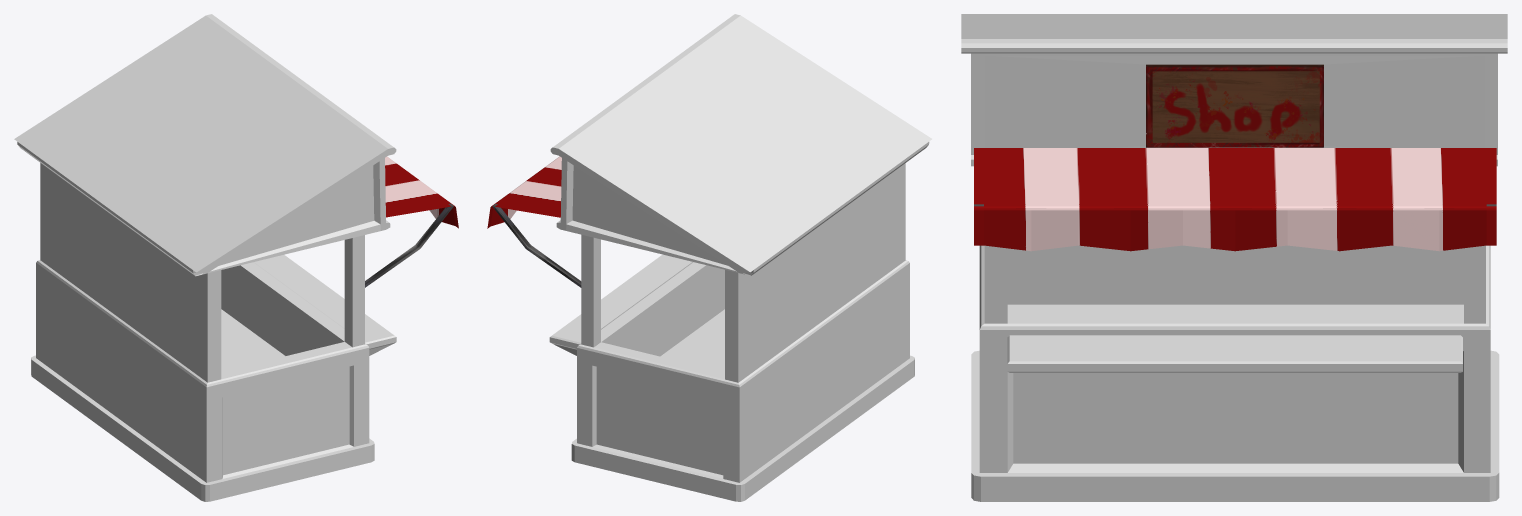
The model's file is Shop.fbx.
3 views of the same model, side by side, from view 1: azimuth 30°, elevation 25°; view 2: azimuth 150°, elevation 25°; view 3: azimuth 270°, elevation 25° (orthographic). The views are drawn at different scales.
Parts seen in each view (by area): view 1: Shop, Roof, Shade, Counter; view 2: Shop, Roof, Shade, Counter; view 3: Shop, Roof, Shade, Counter.
Boxes of the visible parts, x1,y1,x2,y2 form: Shop: (31, 163, 374, 501); Roof: (14, 14, 396, 276); Shade: (365, 156, 458, 287); Counter: (254, 255, 396, 355); Shop: (571, 163, 914, 501); Roof: (550, 14, 931, 275); Shade: (487, 156, 581, 287); Counter: (549, 254, 692, 355); Shop: (971, 245, 1499, 501); Roof: (961, 14, 1507, 166); Shade: (974, 148, 1496, 251); Counter: (1007, 335, 1462, 372).
Size of the model in its own units: 242 by 271 by 287.
